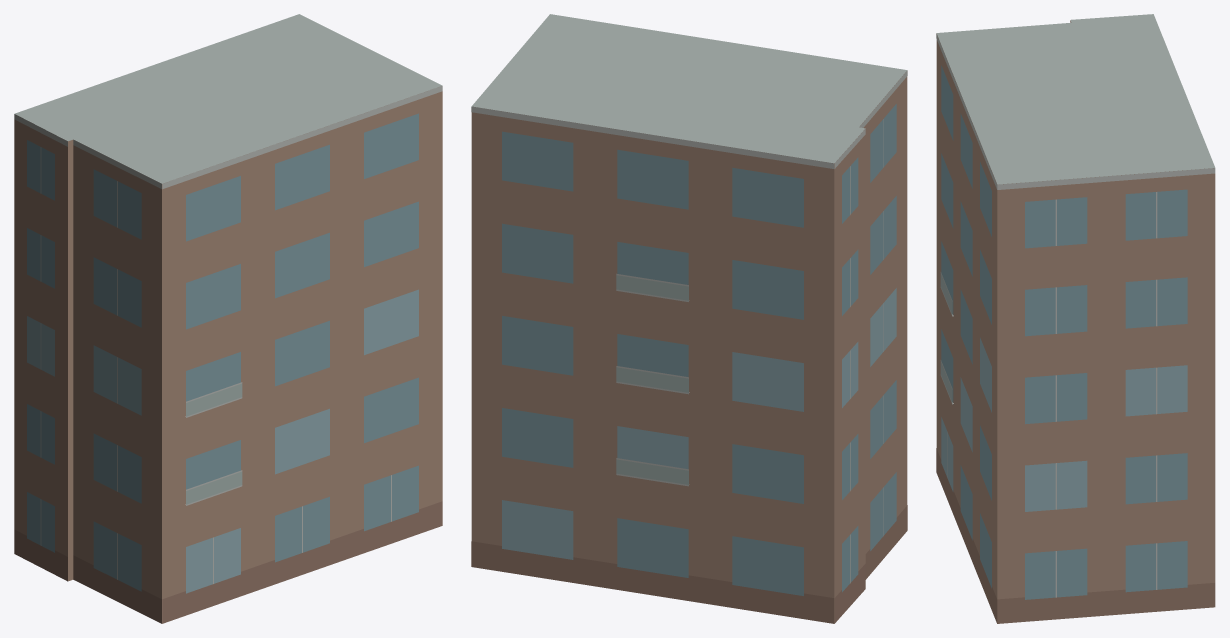
Rendered from survey-upis-32870527.glb.
3 views of the same model, side by side, from view 1: azimuth 30°, elevation 25°; view 2: azimuth 150°, elevation 25°; view 3: azimuth 270°, elevation 25° (orthographic). The views are drawn at different scales.
Visible parts, largest first — view 1: survey-upis-32870527.tmp; view 2: survey-upis-32870527.tmp; view 3: survey-upis-32870527.tmp.
Boxes of the visible parts, x1,y1,x2,y2 form: survey-upis-32870527.tmp: (14,14,442,623); survey-upis-32870527.tmp: (471,14,907,623); survey-upis-32870527.tmp: (936,14,1215,623).
Size of the model in its own units: 16.08 by 19.3 by 11.12.
